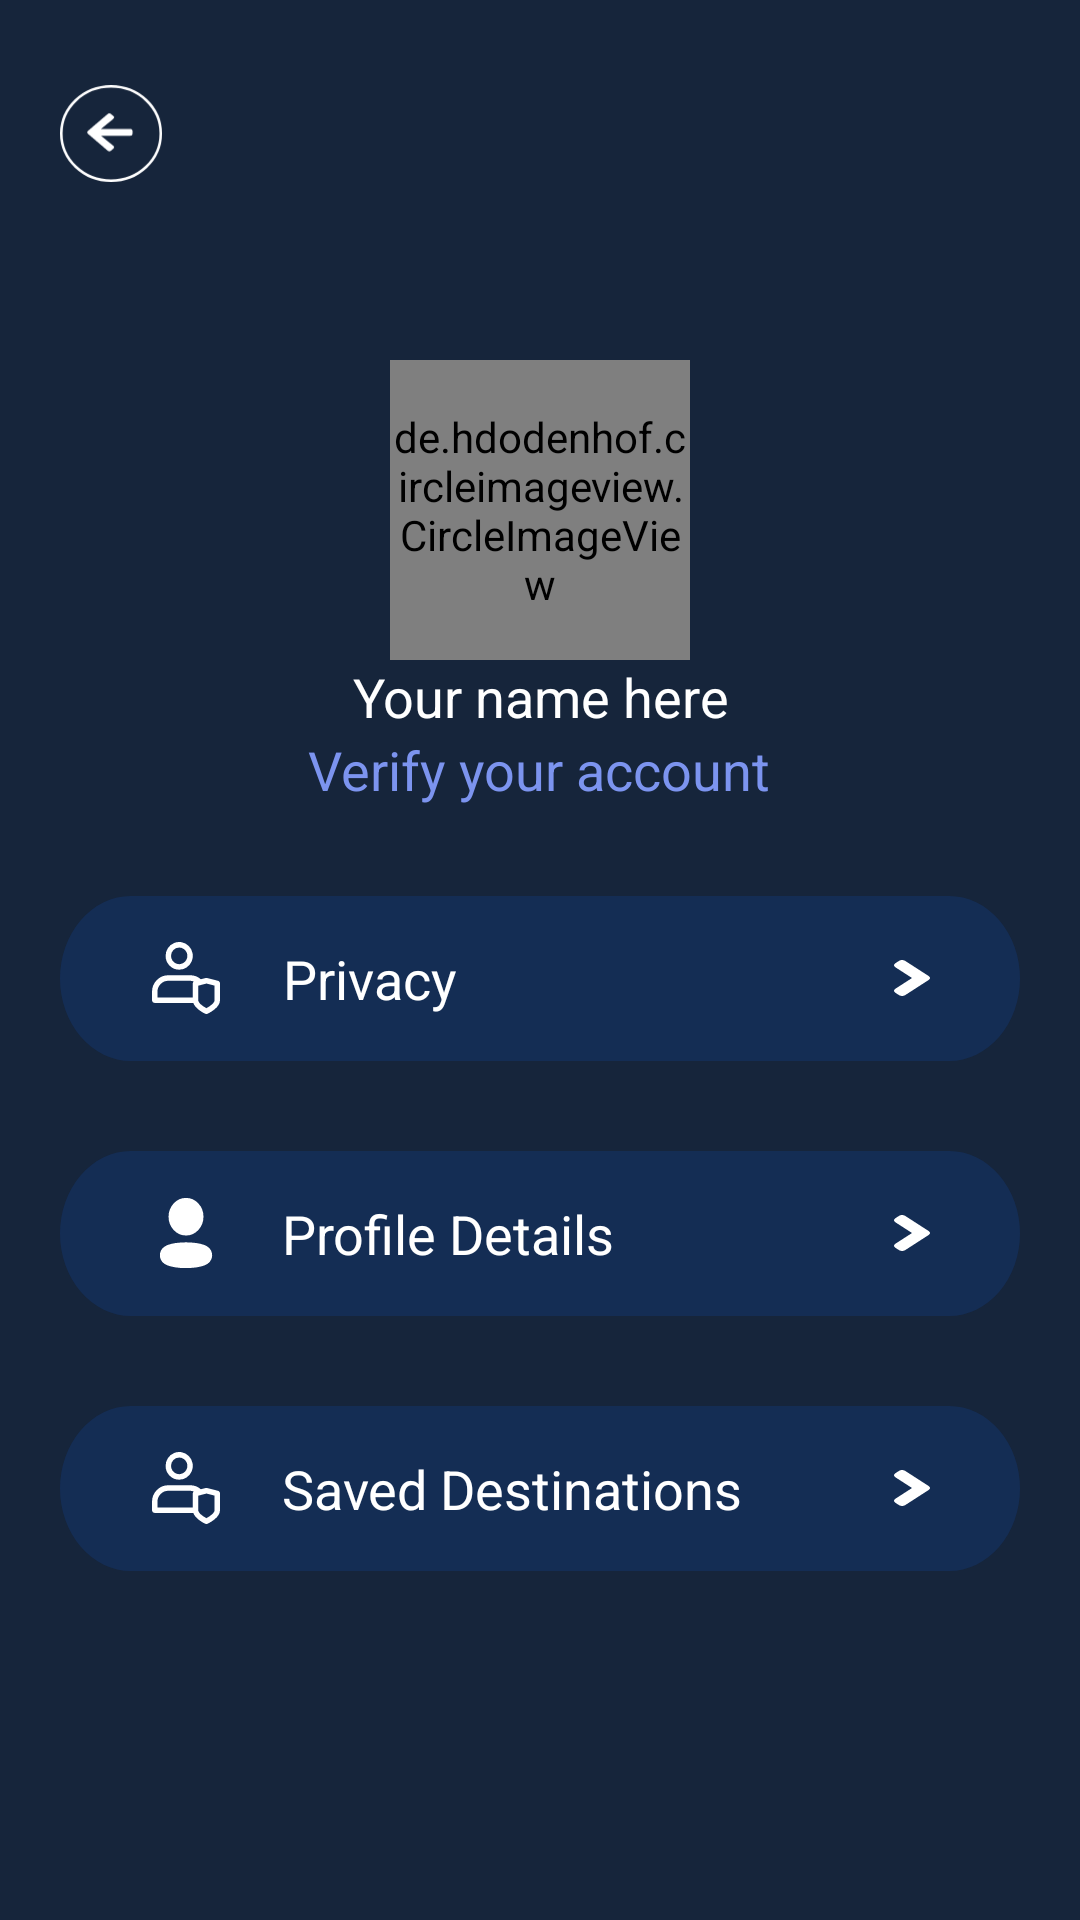

Point at icon controls on the screen. Image size 1080px x 1920px, points as (x=x, y=y).
arrow: (x=111, y=133)
arrow right: (x=912, y=978), (x=912, y=1233), (x=912, y=1488)
profile secure: (x=186, y=978), (x=186, y=1488)
